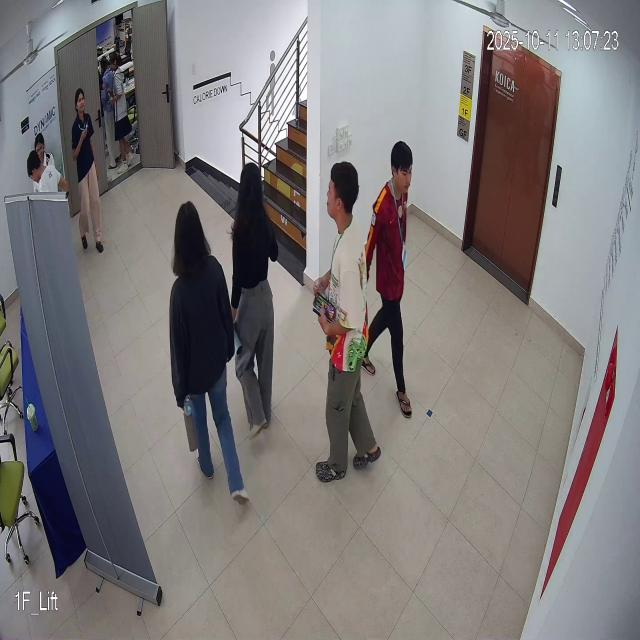face: (386, 133, 418, 203)
